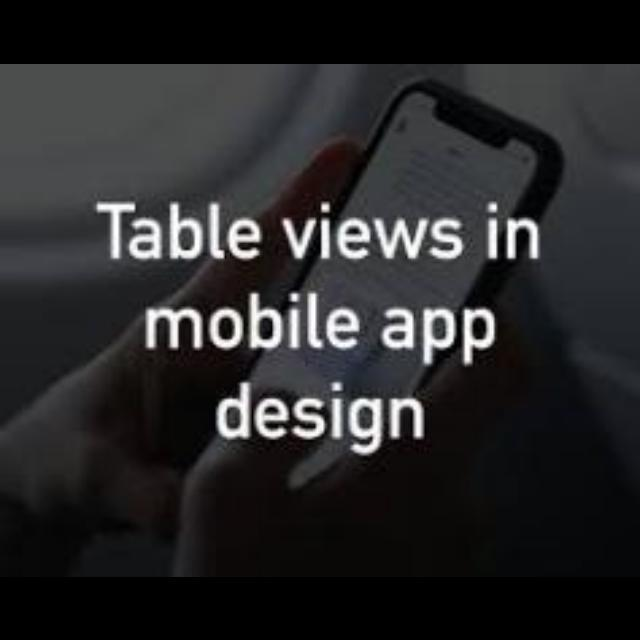phone: (158, 74, 575, 537)
